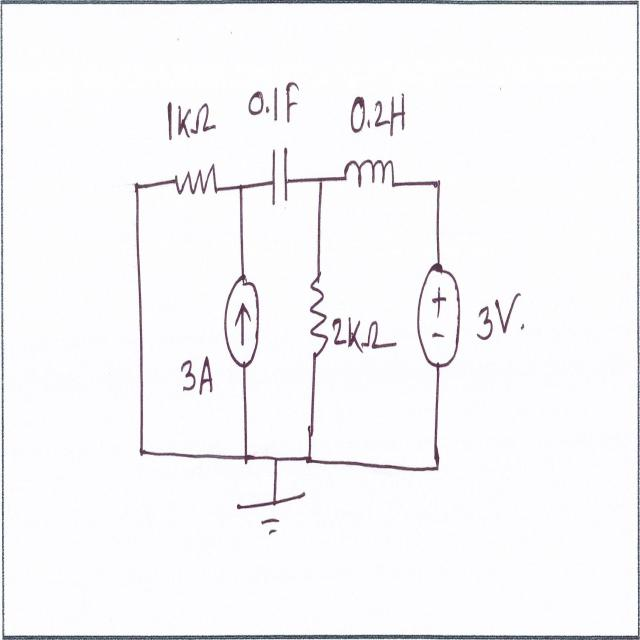capacitor: (266, 140, 291, 214)
current_source: (222, 270, 262, 379)
ground: (234, 491, 311, 539)
inductor: (341, 156, 396, 190)
resistor: (166, 154, 223, 209), (306, 264, 330, 362)
voltage_source: (415, 259, 463, 374)
